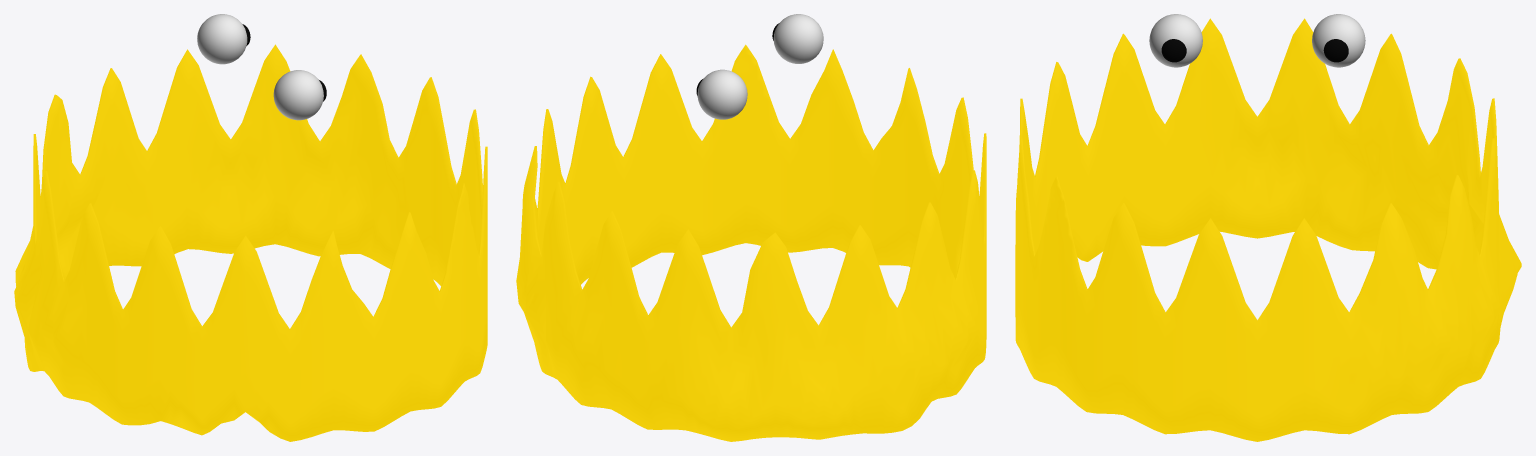
The model's file is Fire.fbx.
3 renders of one model, left to right at view 1: azimuth 30°, elevation 25°; view 2: azimuth 150°, elevation 25°; view 3: azimuth 270°, elevation 25°, orthographic. The views are drawn at different scales.
Visible parts, largest first — view 1: Fire_Body, Eyeball; view 2: Fire_Body, Eyeball; view 3: Fire_Body, Eyeball.
Part boxes in pixels (box(x1,y1,x2,y2)): Fire_Body: box(14, 44, 487, 441); Eyeball: box(197, 14, 326, 120); Fire_Body: box(516, 44, 986, 441); Eyeball: box(696, 14, 823, 119); Fire_Body: box(1015, 18, 1521, 441); Eyeball: box(1149, 14, 1365, 67).
Size of the model in its own units: 211 by 152 by 211.
